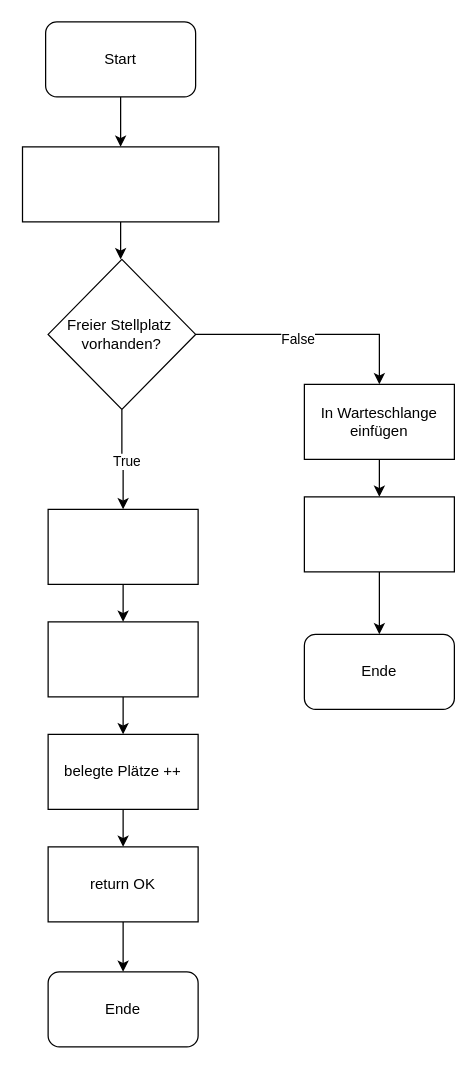
This 476x1069 diagram has some shape labels left out. The centre of each missing label's shape, as x and y in pixels:
"Fahrzeug erstellen (ID, Parkdauer, Einfahrtszeit)" goes at pixel 120 184.
"Fahrzeug zuweisen" goes at pixel 122 659.
"freien Stellplatz suchen" goes at pixel 122 546.
"return KFZ_WARTEN" goes at pixel 378 534.
